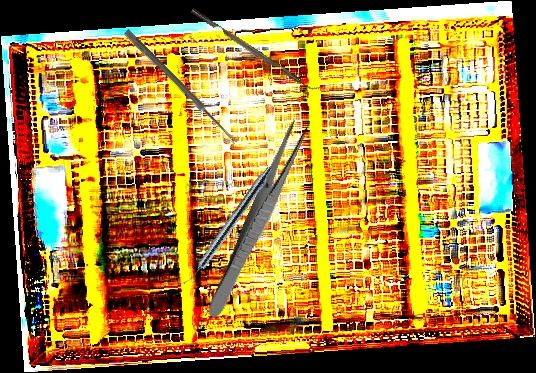Chopper: (190, 2, 322, 96)
Dressing Forceps: (204, 118, 311, 322)
Handpiece: (180, 163, 275, 290)
Surgical Spoon: (123, 29, 239, 145)
